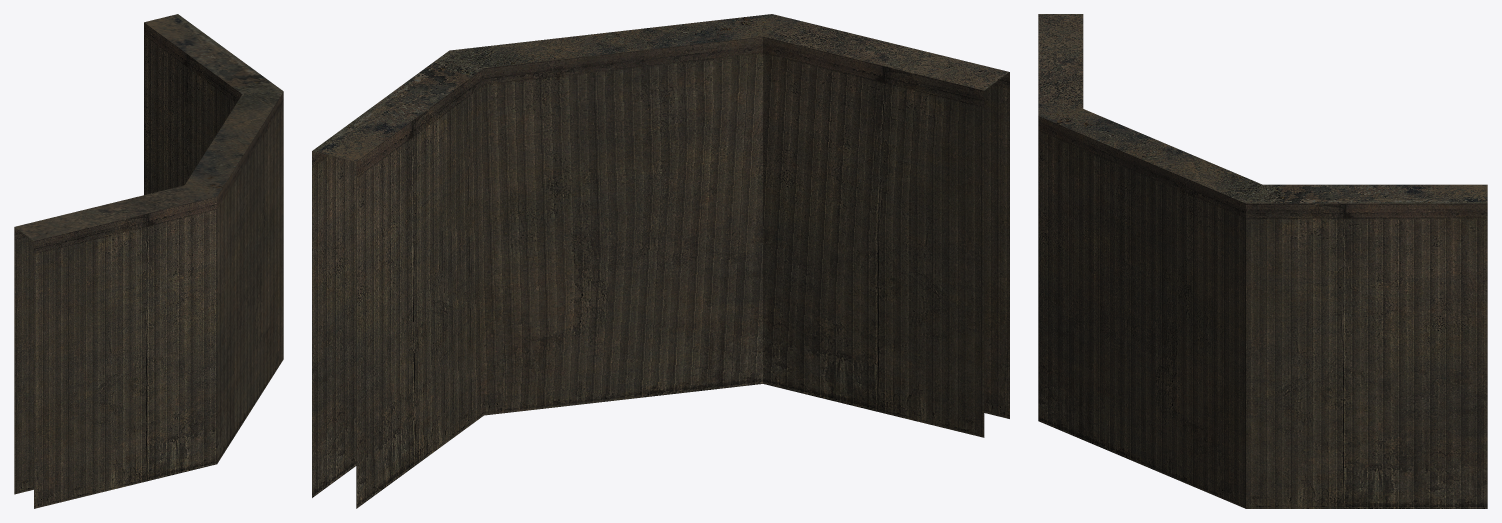
The model's file is wall_rx_1_m2a_1.glb.
The picture shows the model from 3 angles, left to right: view 1: azimuth 30°, elevation 25°; view 2: azimuth 150°, elevation 25°; view 3: azimuth 270°, elevation 25°; orthographic projection. The views are drawn at different scales.
Visible parts, largest first — view 1: wall_rx_1_m2a_1; view 2: wall_rx_1_m2a_1; view 3: wall_rx_1_m2a_1.
Boxes of the visible parts, box(x1,y1,x2,y2) form: wall_rx_1_m2a_1: box(14, 14, 283, 508); wall_rx_1_m2a_1: box(312, 14, 1009, 508); wall_rx_1_m2a_1: box(1038, 14, 1487, 508).
Bounding box in the file's own units: 4 × 3 × 4.
Materials: 2 (2 with a texture image).
